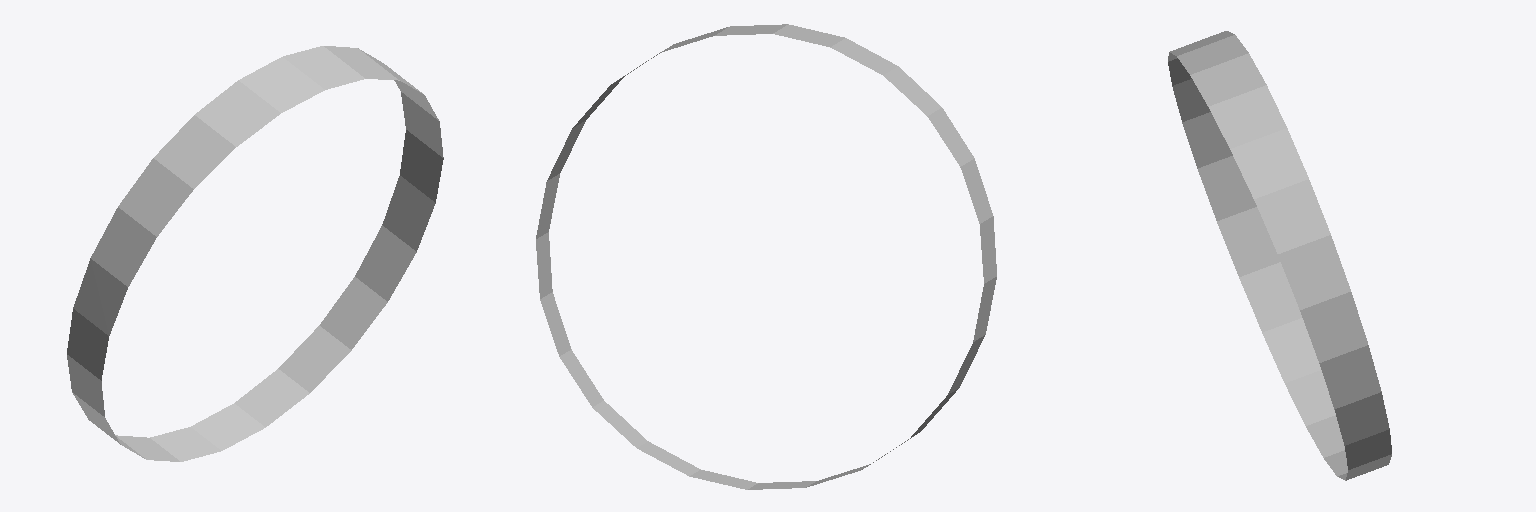
Rendered from original-15.obj.
3 views of the same model, side by side, from view 1: azimuth 30°, elevation 25°; view 2: azimuth 150°, elevation 25°; view 3: azimuth 270°, elevation 25° (orthographic).
Visible parts, largest first — view 1: #ID68; view 2: #ID68; view 3: #ID68.
Boxes of the visible parts, x1,y1,x2,y2 form: #ID68: [67, 46, 443, 461]; #ID68: [536, 24, 996, 489]; #ID68: [1168, 31, 1391, 480].
Bounding box in the file's own units: 0.0261 × 0.026 × 0.0127.